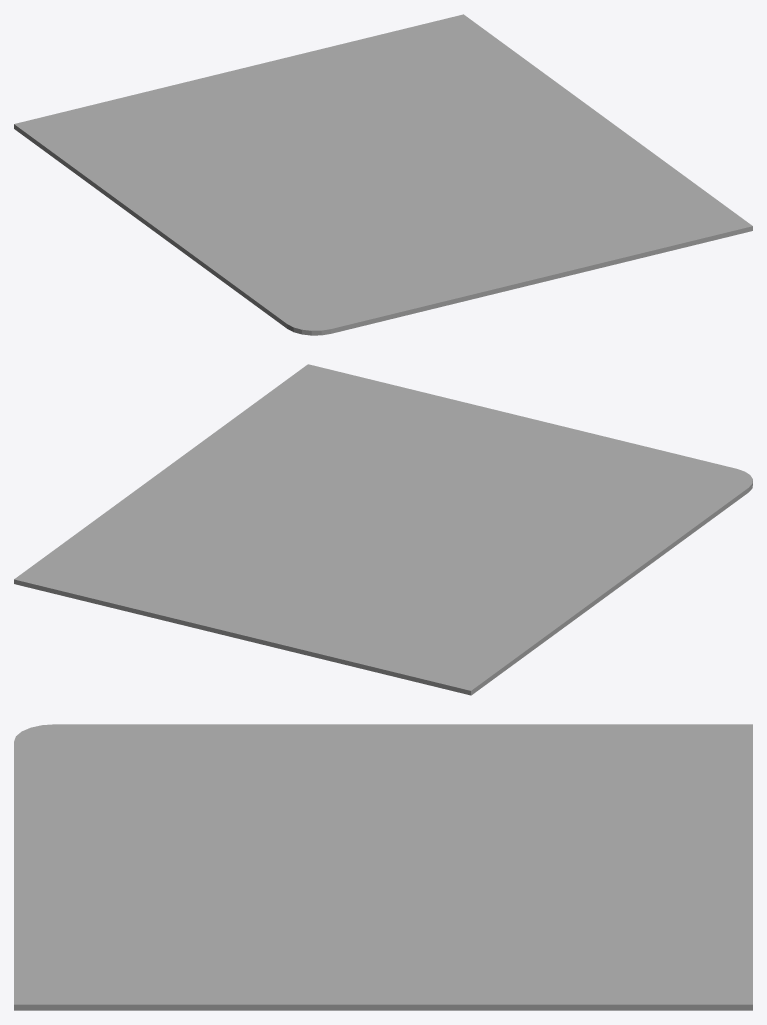
Rendered from floor.fbx.
3 renders of one model, top to bottom at view 1: azimuth 30°, elevation 25°; view 2: azimuth 150°, elevation 25°; view 3: azimuth 270°, elevation 25°, orthographic. The views are drawn at different scales.
Parts seen in each view (by area): view 1: Plane.005; view 2: Plane.005; view 3: Plane.005.
Part boxes in pixels (bbox=[...]): Plane.005: bbox=[14, 14, 752, 335]; Plane.005: bbox=[14, 364, 752, 695]; Plane.005: bbox=[14, 724, 752, 1010].
Size of the model in its own units: 133 by 1.36 by 148.
Materials: 1 (1 with a texture image).
